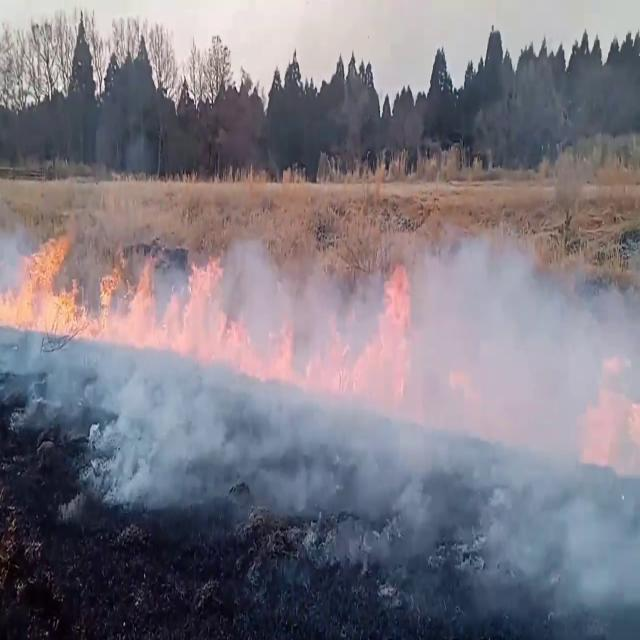Fire: (13, 216, 144, 350), (178, 252, 250, 366), (369, 248, 416, 366)
Smoke: (14, 168, 640, 508)
